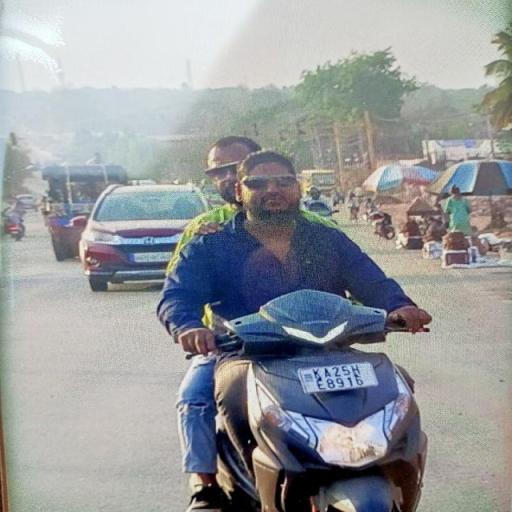bike: (144, 133, 440, 512)
numberplate: (300, 354, 375, 397)
withouthelmet: (244, 153, 300, 218), (207, 141, 259, 205)
